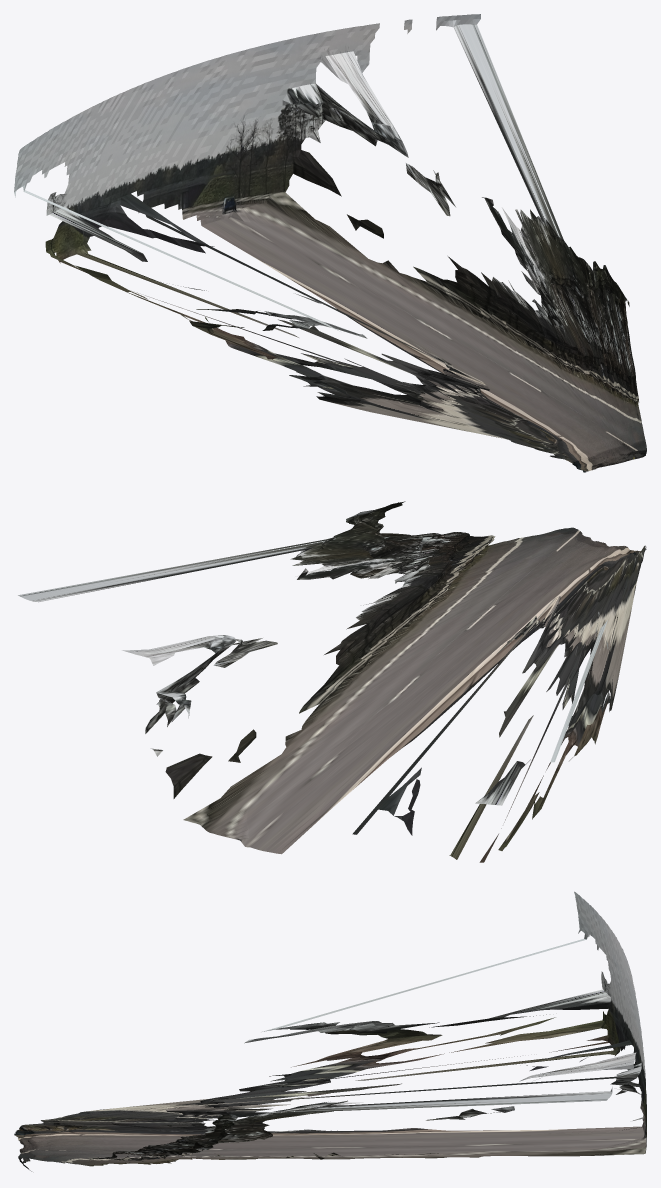
The picture shows the model from 3 angles, top to bottom: view 1: azimuth 30°, elevation 25°; view 2: azimuth 150°, elevation 25°; view 3: azimuth 270°, elevation 25°; orthographic projection. The views are drawn at different scales.
Parts seen in each view (by area): view 1: defaultobject; view 2: defaultobject; view 3: defaultobject.
Boxes of the visible parts, left/top/right/bottom form: defaultobject: left=14, top=14, right=646, bottom=472; defaultobject: left=18, top=501, right=646, bottom=862; defaultobject: left=14, top=891, right=646, bottom=1171.
Size of the model in its own units: 34.79 by 11.95 by 44.66.
1 material, 1 textured.
